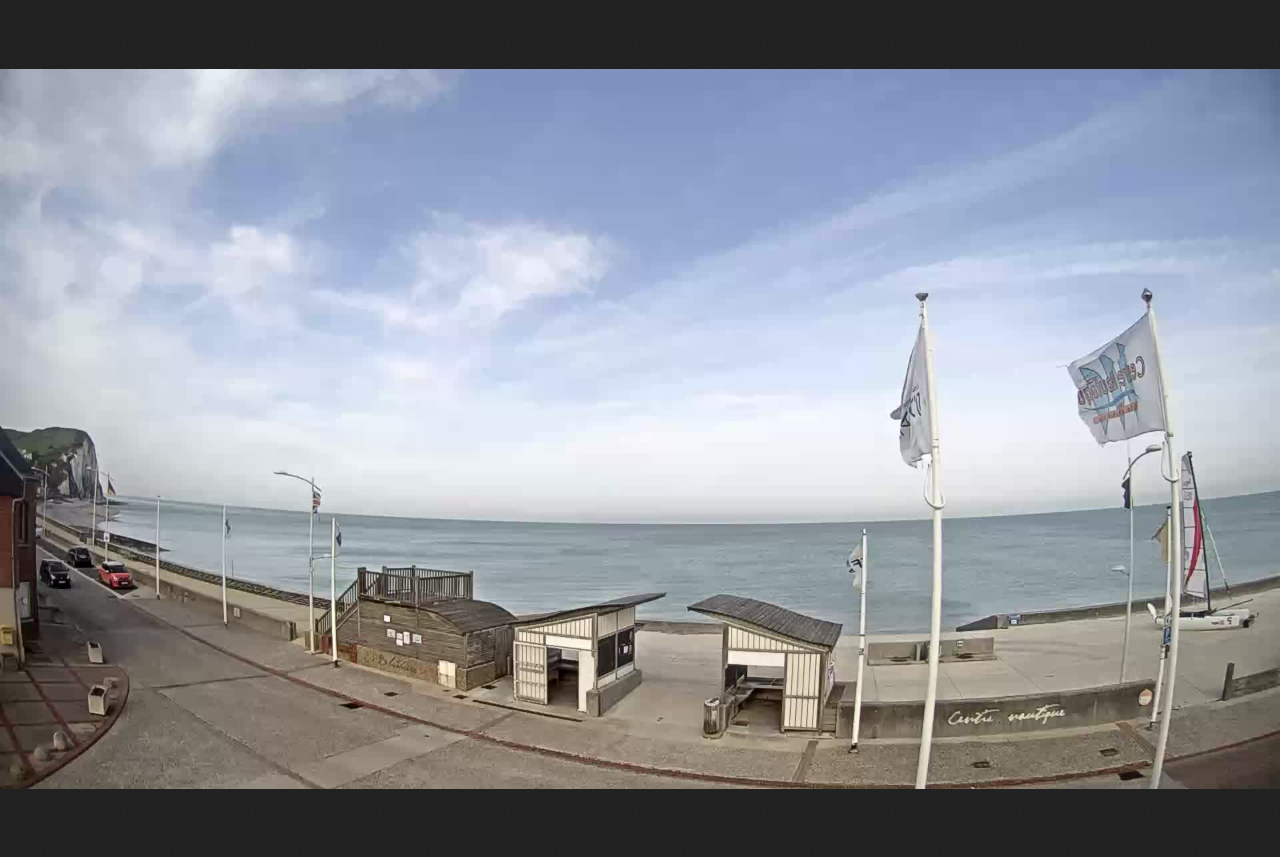no: (886, 290, 939, 475), (844, 524, 878, 598)
yes: (1060, 287, 1192, 453)
